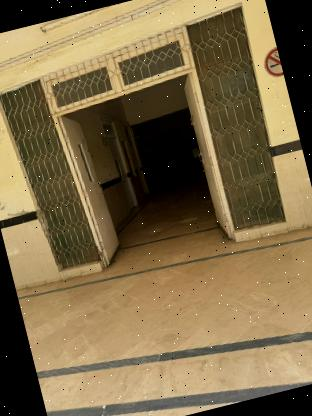door: (33, 28, 250, 280)
